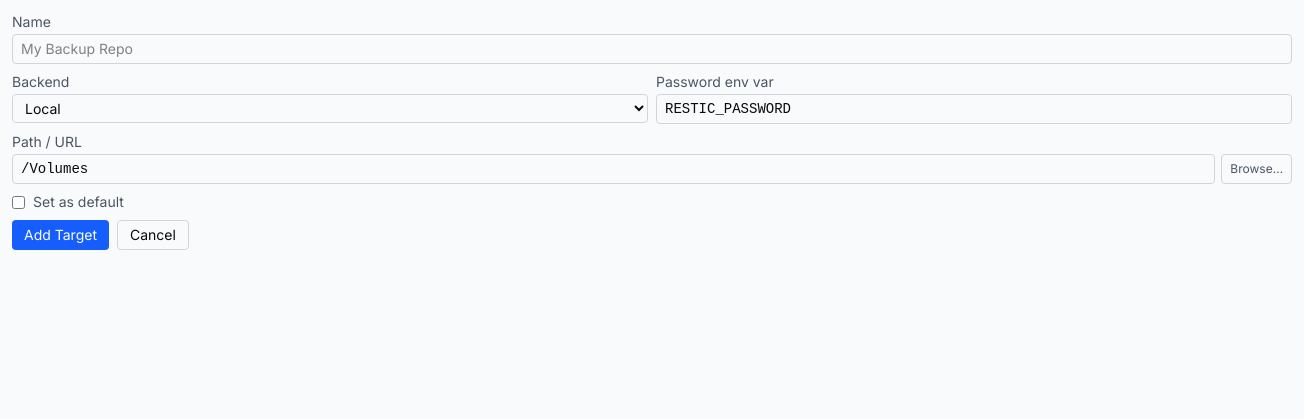
StorageTargetForm › hides directory browser when Browse is clicked again
Click the button "Browse…". click: (1257,169)
box: [1221, 154, 1292, 184]
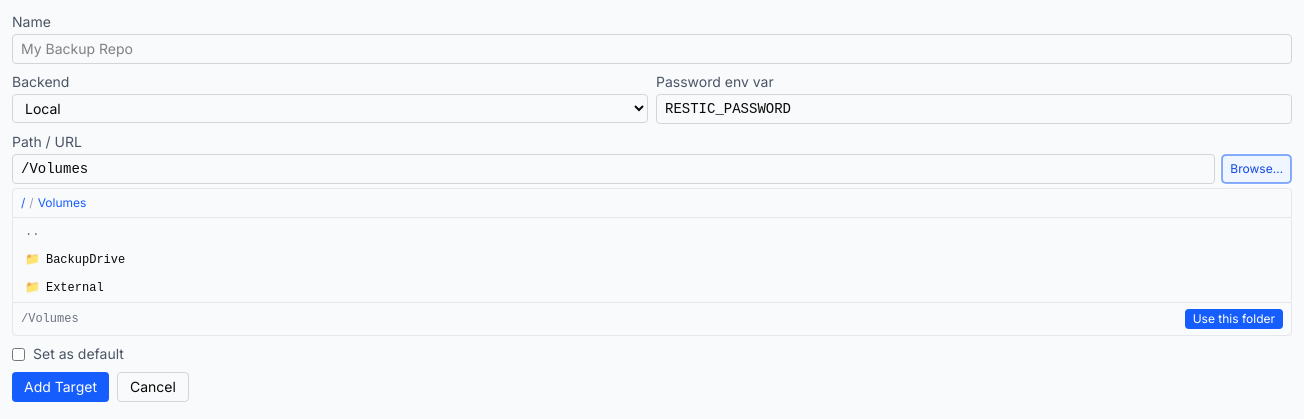
Expected: the button "📁 BackupDrive" is shown, [13, 246, 1291, 274]
Click the button "Browse…". click: (1257,169)
box: [1221, 154, 1292, 184]
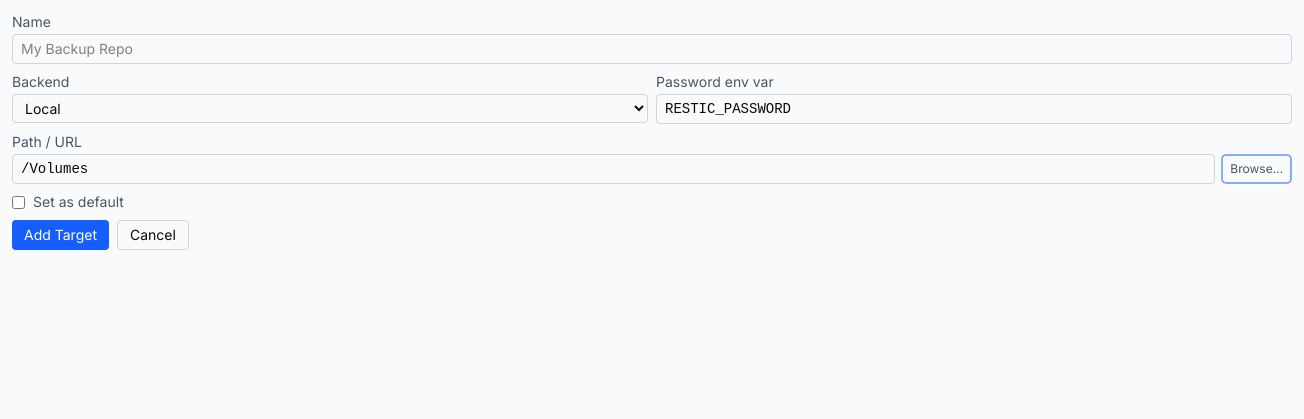
Expected: the button "BackupDrive" is gone
